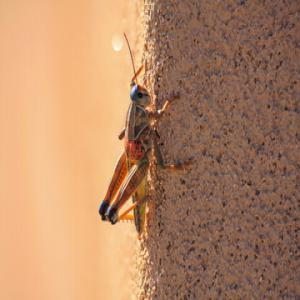locust: (107, 52, 169, 226)
